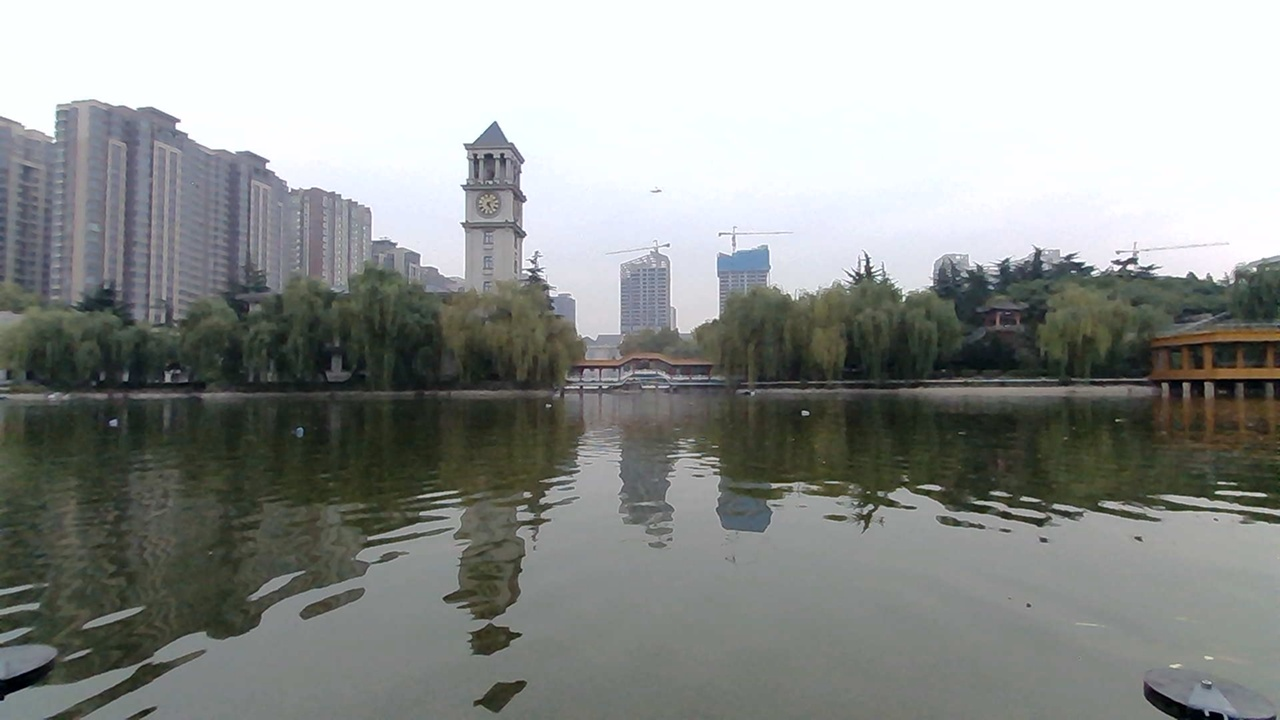bottle: (784, 400, 828, 422), (283, 420, 317, 442), (103, 406, 124, 434)
